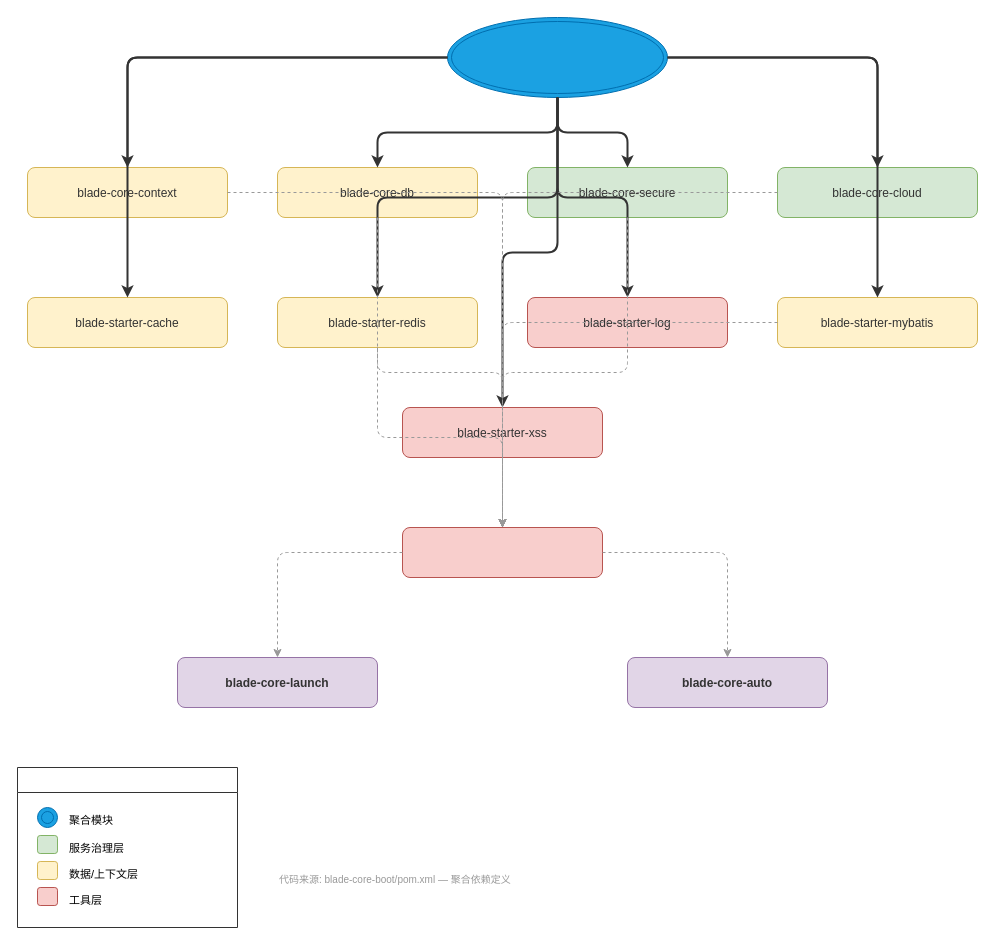
This 995x945 diagram has some shape labels left out. The shapes that lost their labels are listed below. From the top down, each one's box as (x1, y1, x2, y2) in pixels, then its label:
(446, 16, 668, 98): blade-core-boot
(402, 526, 602, 578): blade-core-tool
(16, 766, 238, 928): 图例
